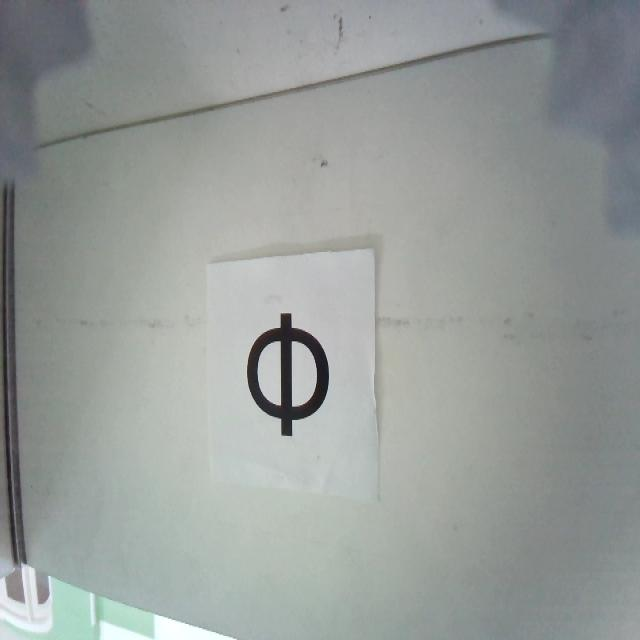F: (246, 313, 329, 432)
